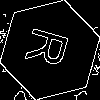R: (25, 25, 78, 72)
